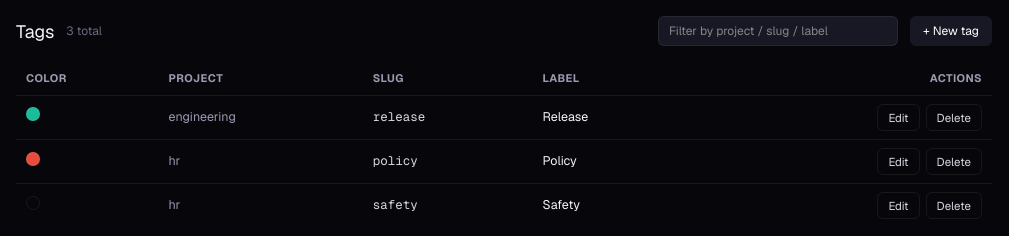
Test: TagsList › Delete cancel reverts the row to its non-confirming state
The image size is (1009, 236).
Check: the row with test id "admin-tag-row-2" is shown, box [16,139,992,184]
What coordinates should you click on to do the following:
click the button with test id "admin-tag-row-2-delete"
I would click on:
 (954, 161)
Its box is [926,148,982,175].
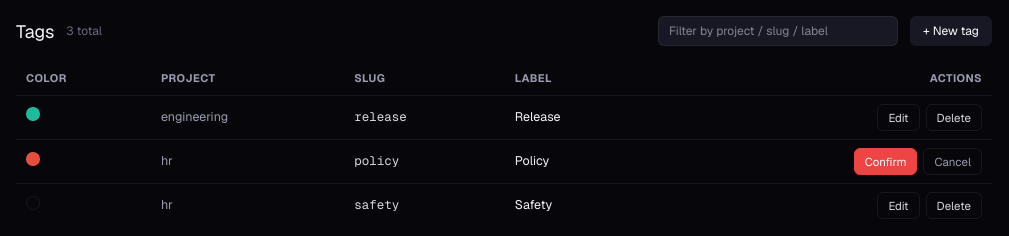
What coordinates should you click on to do the following:
click the button with test id "admin-tag-row-2-delete-cancel"
I would click on:
 (953, 161)
Its box is [924,148,982,175].
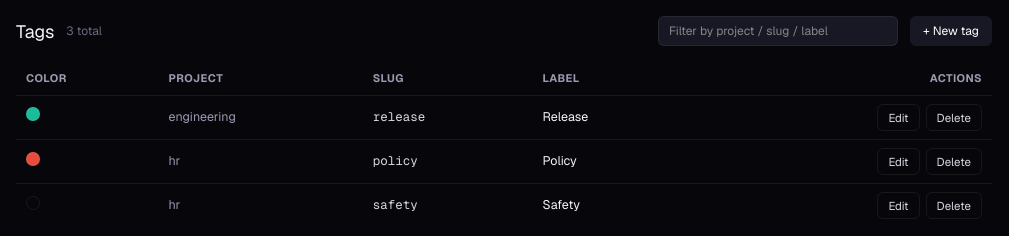
Check: the button with test id "admin-tag-row-2-delete" is shown, box [926,148,982,175]
Check: the button with test id "admin-tag-row-2-delete-confirm" is gone
